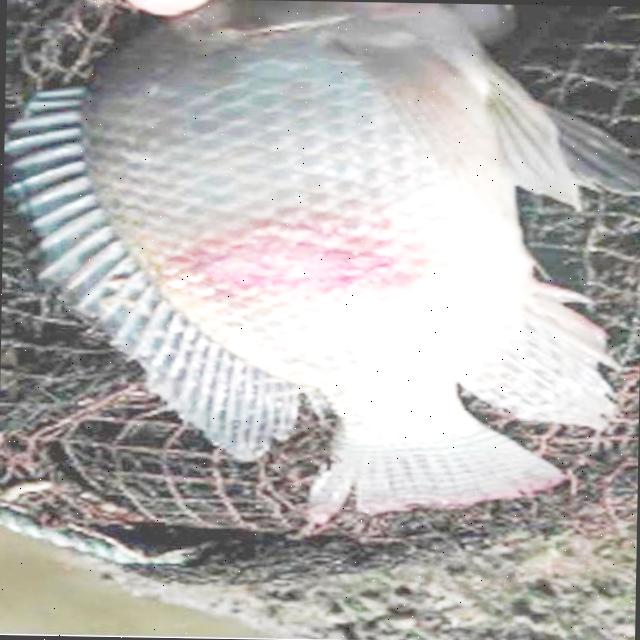Tilapia Lake Virus -TiLV-: (4, 0, 640, 520)
